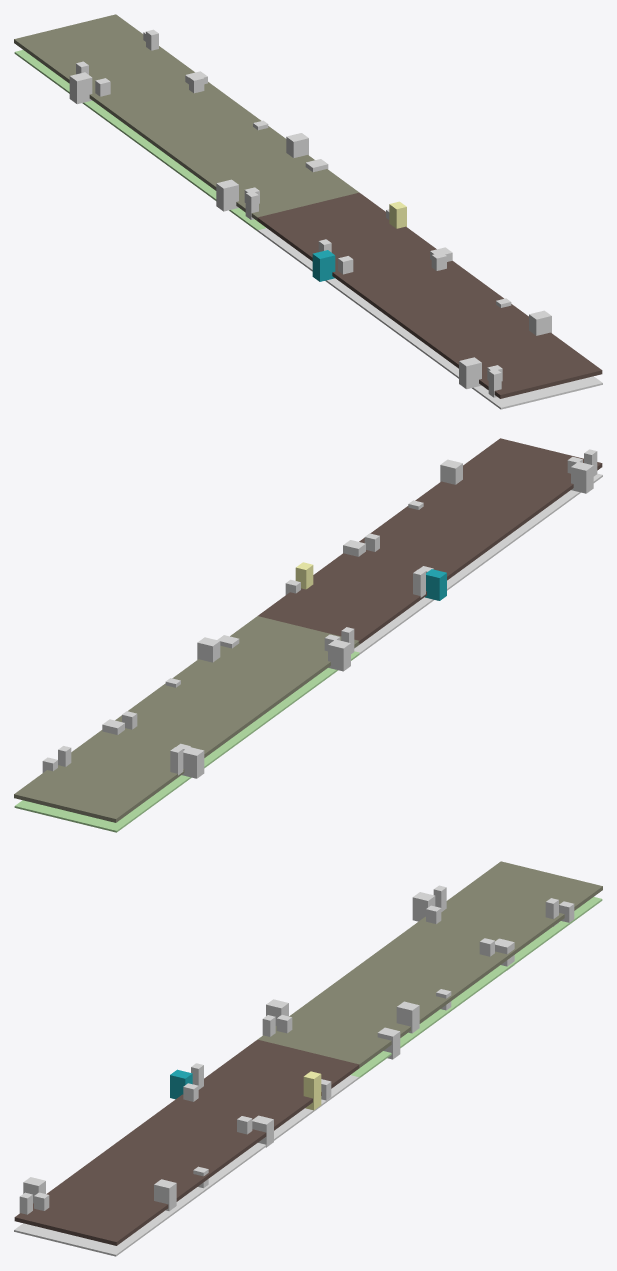
Rendered from map_10_3_2021.fbx.
3 renders of one model, top to bottom at view 1: azimuth 30°, elevation 25°; view 2: azimuth 150°, elevation 25°; view 3: azimuth 330°, elevation 25°, orthographic.
Visible parts, largest first — view 1: Cube, Cube.027, Cube.013, Cube.014, Cube.022, Cube.005, Cube.023, Cube.004; view 2: Cube.027, Cube, Cube.014, Cube.013, Cube.004, Cube.023, Cube.022, Cube.005; view 3: Cube, Cube.027, Cube.013, Cube.014, Cube.009, Cube.021, Cube.006.
Part boxes in pixels (left/top/right/bottom): Cube: left=257, top=192, right=602, bottom=398; Cube.027: left=14, top=14, right=358, bottom=220; Cube.013: left=257, top=228, right=602, bottom=409; Cube.014: left=14, top=50, right=265, bottom=231; Cube.022: left=69, top=72, right=92, bottom=104; Cube.005: left=312, top=250, right=335, bottom=281; Cube.023: left=216, top=179, right=238, bottom=211; Cube.004: left=459, top=357, right=481, bottom=389; Cube.027: left=14, top=616, right=359, bottom=822; Cube: left=258, top=438, right=602, bottom=644; Cube.014: left=14, top=651, right=359, bottom=832; Cube.013: left=354, top=473, right=602, bottom=654; Cube.004: left=571, top=462, right=593, bottom=493; Cube.023: left=328, top=639, right=350, bottom=671; Cube.022: left=182, top=747, right=204, bottom=778; Cube.005: left=425, top=569, right=446, bottom=600; Cube: left=14, top=1039, right=359, bottom=1245; Cube.027: left=258, top=861, right=602, bottom=1067; Cube.013: left=14, top=1075, right=359, bottom=1256; Cube.014: left=351, top=897, right=602, bottom=1078; Cube.009: left=303, top=1071, right=321, bottom=1110; Cube.021: left=396, top=1001, right=419, bottom=1033; Cube.006: left=154, top=1179, right=176, bottom=1211.
Bounding box in the file's own units: 1101 × 351 × 7793.
